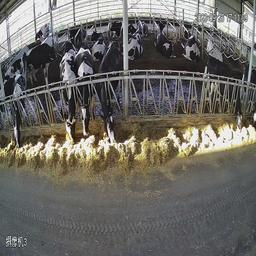cow: (204, 50, 243, 130), (98, 39, 122, 143), (60, 50, 78, 145), (78, 43, 95, 138), (25, 43, 58, 88), (11, 73, 25, 146), (182, 24, 203, 64), (206, 24, 229, 60), (155, 18, 175, 57), (2, 53, 29, 80), (128, 21, 142, 62), (89, 29, 106, 60), (32, 20, 51, 42), (110, 18, 123, 38), (69, 24, 87, 38), (139, 18, 149, 36)
